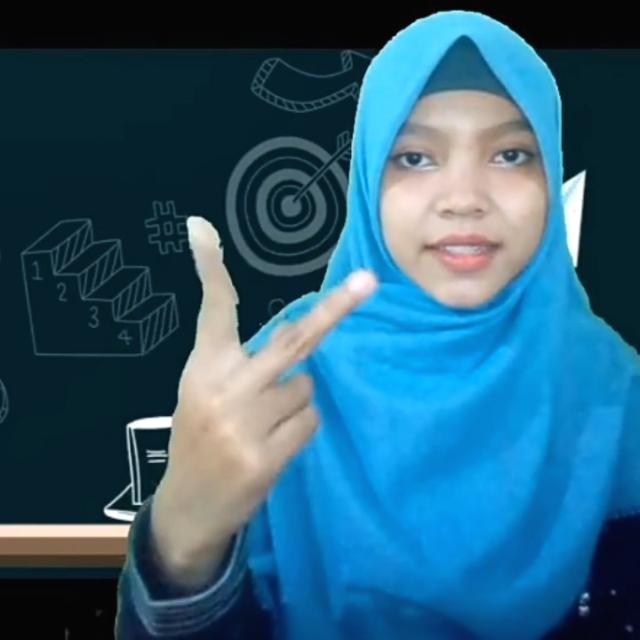K: (172, 215, 378, 497)
